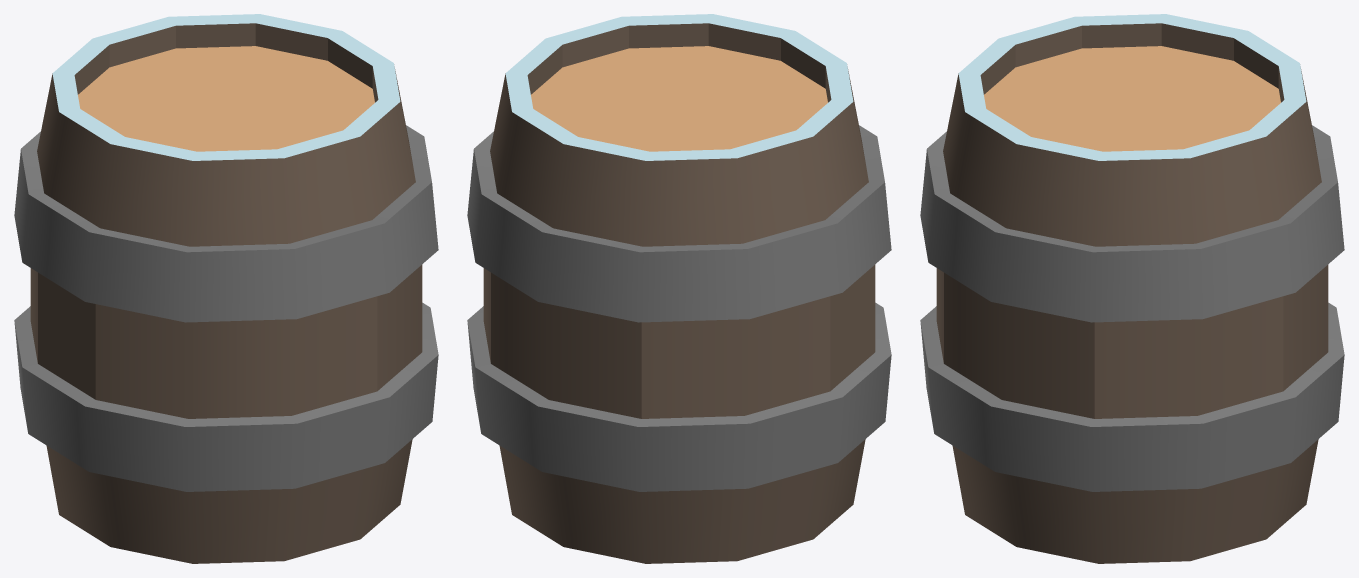
File: SM_Barrel05_Closed.fbx
The picture shows the model from 3 angles, left to right: view 1: azimuth 30°, elevation 25°; view 2: azimuth 150°, elevation 25°; view 3: azimuth 270°, elevation 25°; orthographic projection.
Parts seen in each view (by area): view 1: SM_Barrel05_Closed; view 2: SM_Barrel05_Closed; view 3: SM_Barrel05_Closed.
Boxes of the visible parts, x1,y1,x2,y2 form: SM_Barrel05_Closed: (14, 14, 438, 563); SM_Barrel05_Closed: (467, 14, 891, 563); SM_Barrel05_Closed: (920, 14, 1344, 563).
Bounding box in the file's own units: 93.32 × 97.79 × 93.32.
